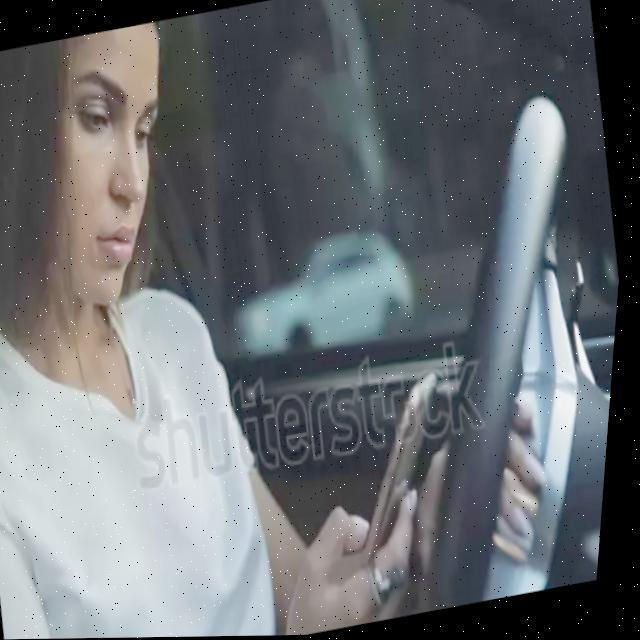PhoneCall: (342, 376, 472, 569)
